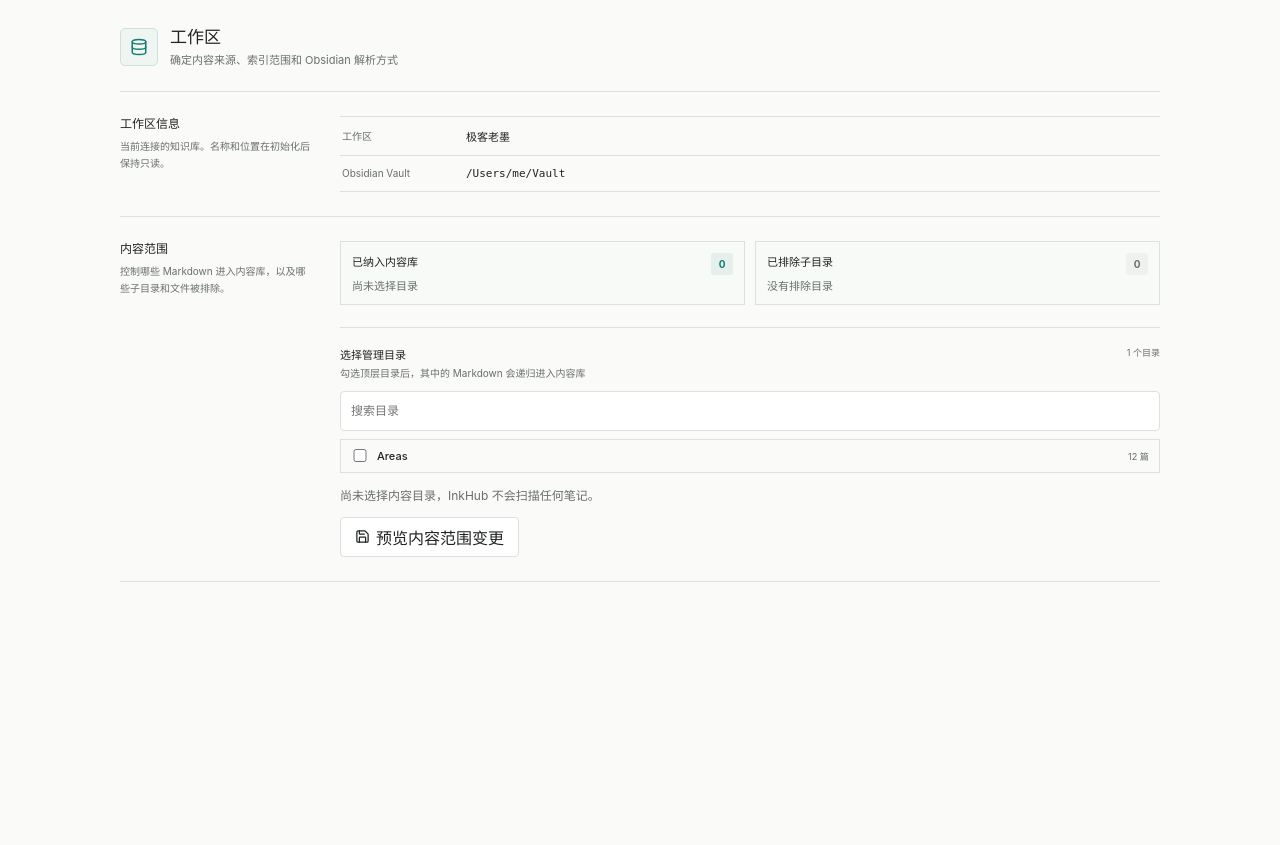
Test: 已有工作区可以配置内容目录并触发重扫
Expected: the text "极客老墨" is shown, [466,130,510,144]
Click the checkbox named "Areas（12 篇）" at x=360, y=456, box [351,449,369,462]
(page scrolled)
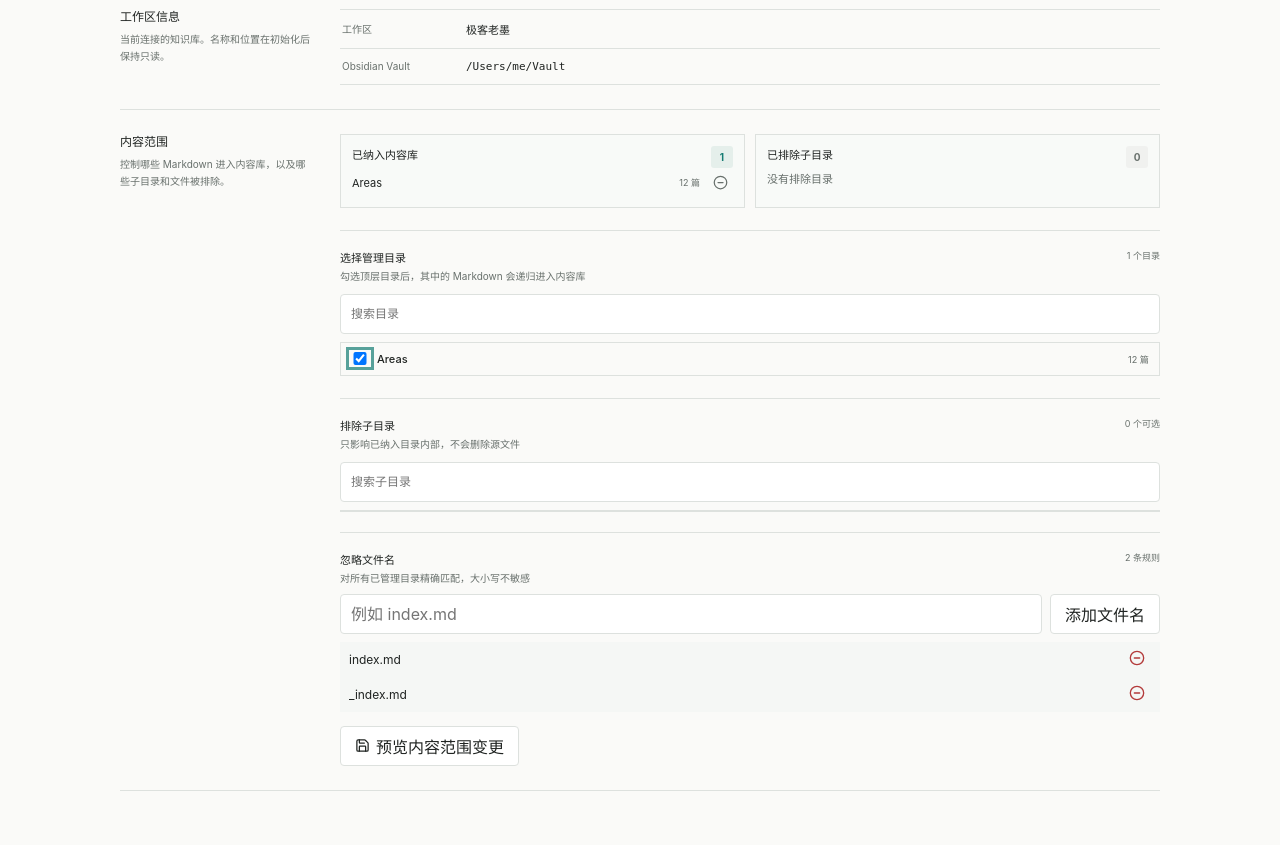
Click the button "预览内容范围变更" at x=430, y=746, box [340,726,519,766]
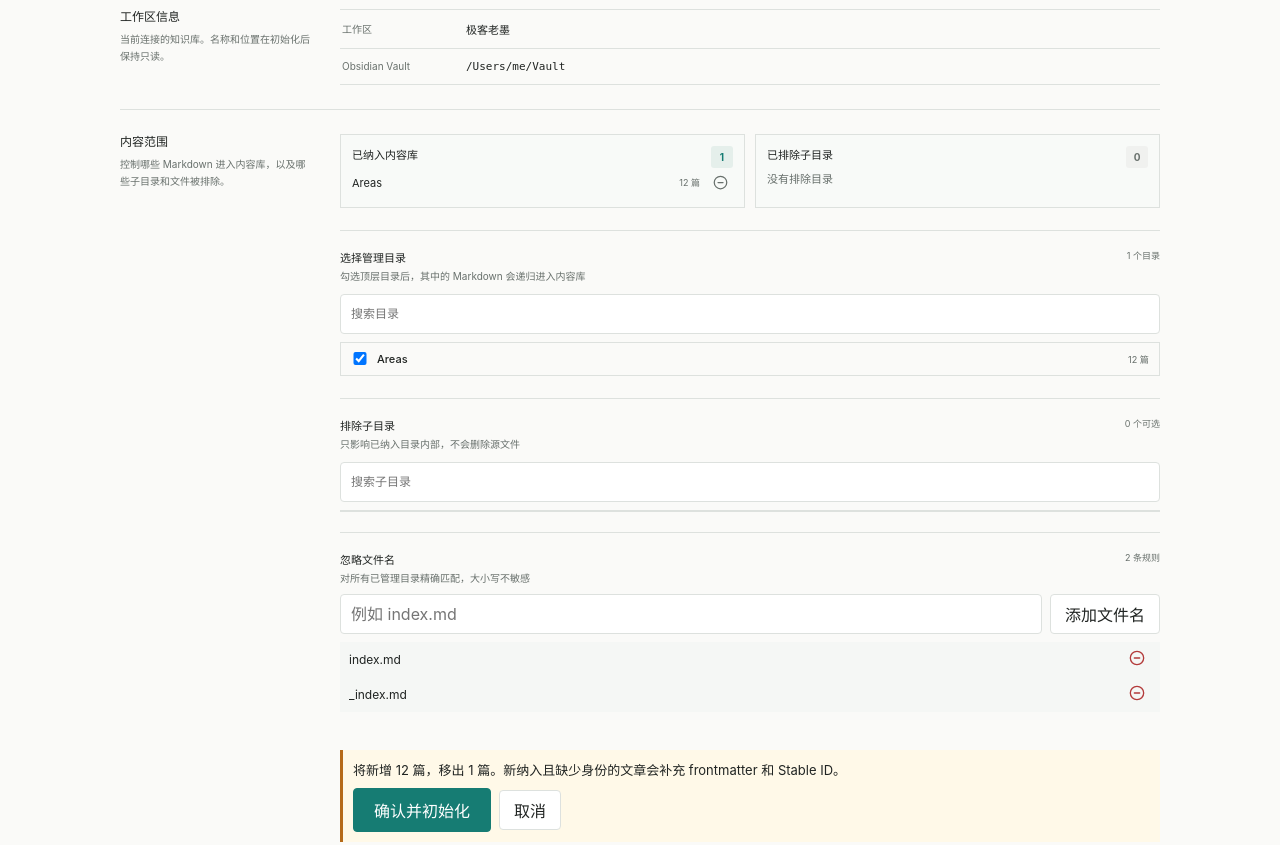
Expected: the text "将新增 12 篇，移出 1 篇。新纳入且缺少身份的文章会补充 frontmatter 和 Stable ID。" is shown, [353,762,846,778]
Click the button "确认并初始化" at x=422, y=810, box [353,788,491,832]
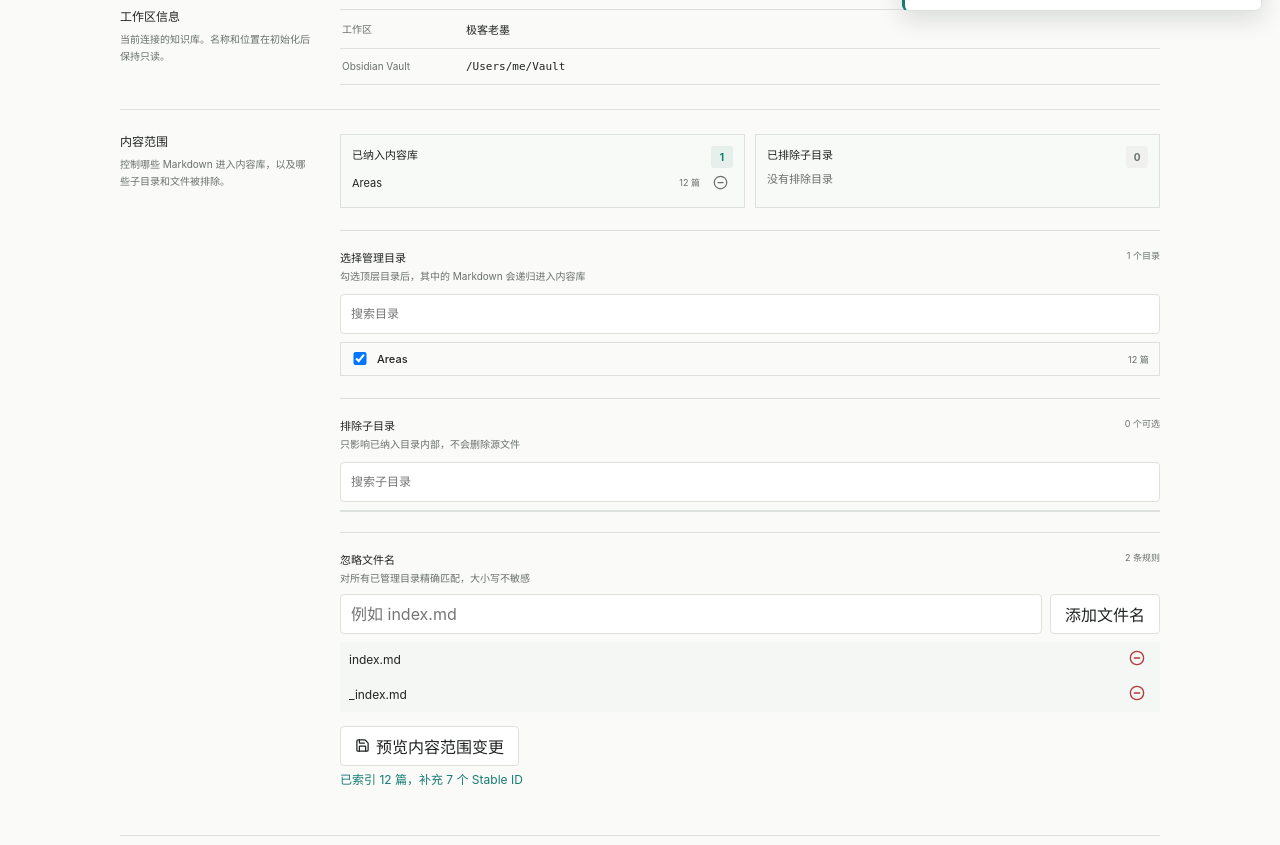
Expected: the text "已索引 12 篇，补充 7 个 Stable ID" is shown, [340,772,523,787]
